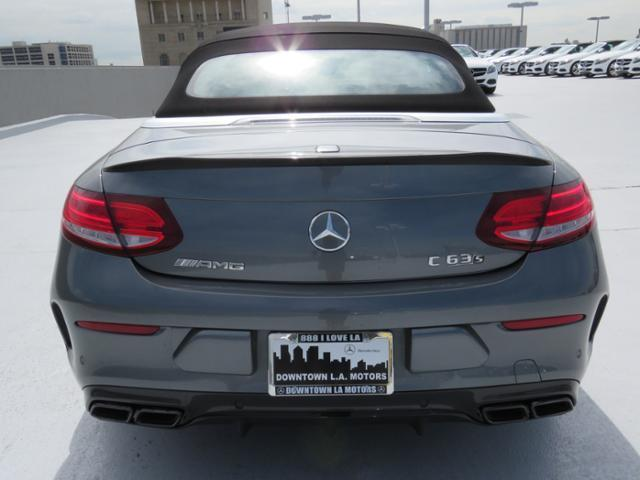C63AMG: (48, 20, 614, 435)
